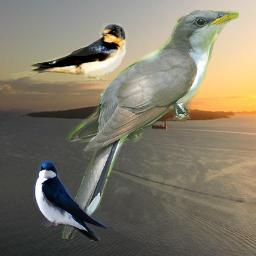Cuckoo: (62, 10, 239, 239)
Swallow: (11, 23, 128, 83), (33, 160, 107, 241)
